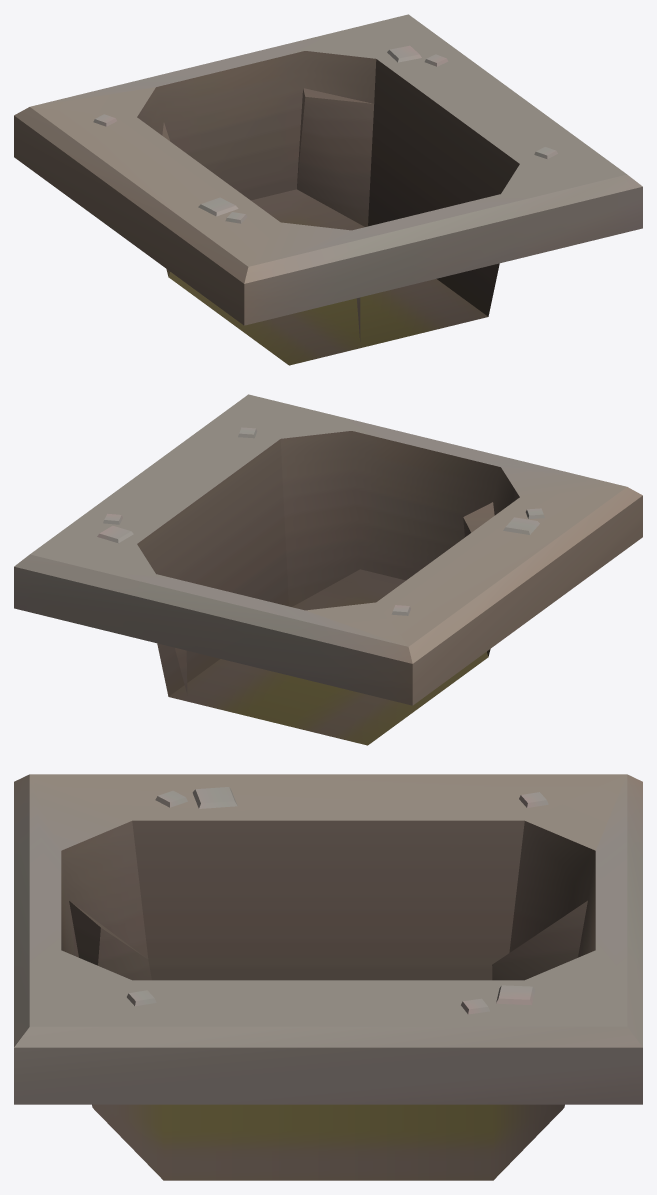
Rendered from kay-cova-terra.gltf.
3 renders of one model, top to bottom at view 1: azimuth 30°, elevation 25°; view 2: azimuth 150°, elevation 25°; view 3: azimuth 270°, elevation 25°, orthographic. The views are drawn at different scales.
Parts seen in each view (by area): view 1: floor_dirt_grave; view 2: floor_dirt_grave; view 3: floor_dirt_grave.
Boxes of the visible parts, box(x1,y1,x2,y2) form: floor_dirt_grave: box(14, 14, 642, 365); floor_dirt_grave: box(14, 394, 642, 745); floor_dirt_grave: box(14, 774, 642, 1180).
Size of the model in its own units: 2 by 0.765 by 2.
1 material, 1 textured.
